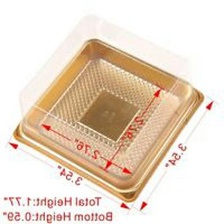plastic_box: (8, 7, 212, 207)
